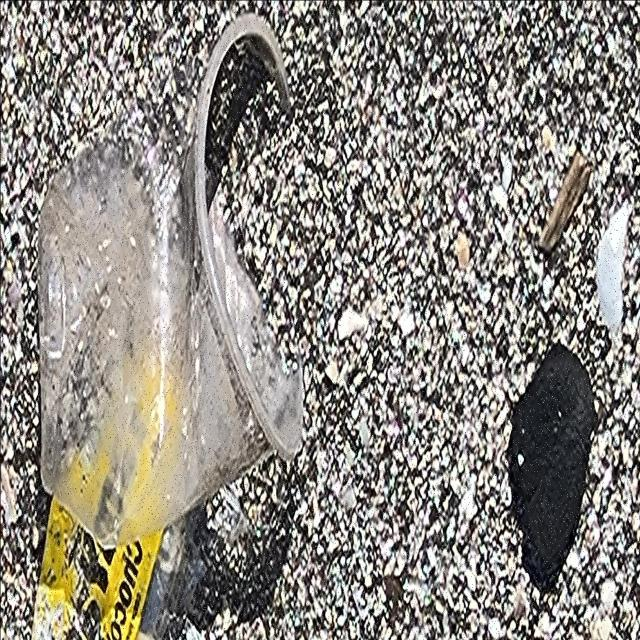plastic_waste: (36, 10, 305, 554)
